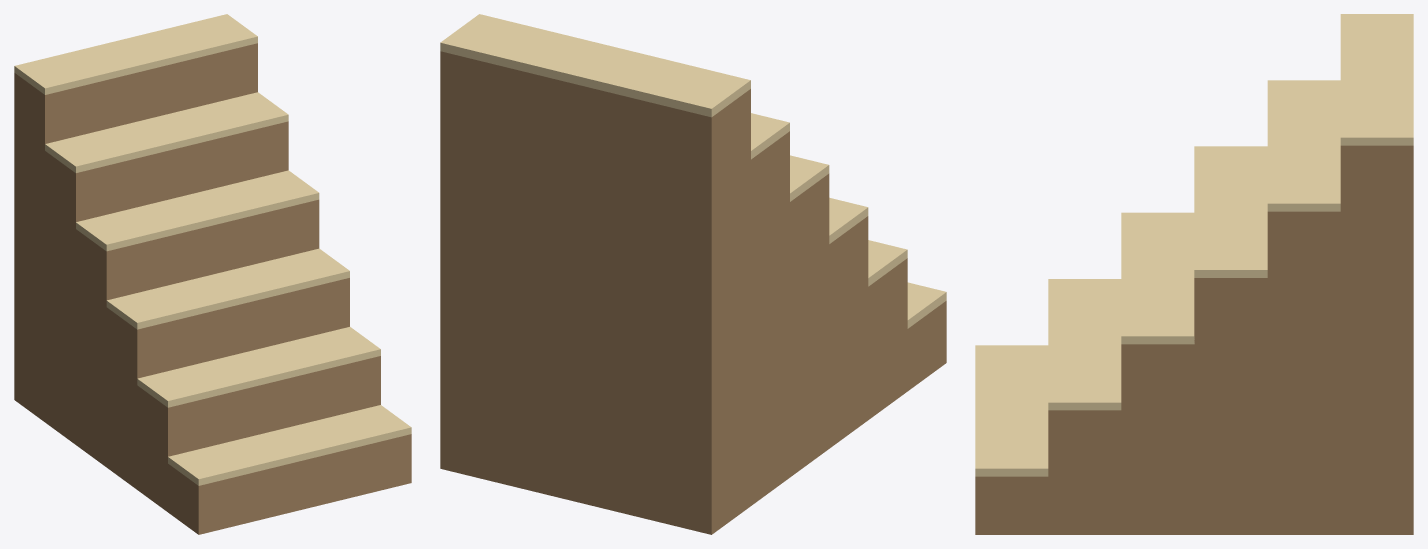
Rendered from interior_stairs.glb.
The picture shows the model from 3 angles, left to right: view 1: azimuth 30°, elevation 25°; view 2: azimuth 150°, elevation 25°; view 3: azimuth 270°, elevation 25°; orthographic projection. The views are drawn at different scales.
Parts seen in each view (by area): view 1: step_5, step_4, step_3, step_2, step_1, step_0, tread_1, tread_3, tread_5, tread_4, tread_0, tread_2; view 2: step_5, step_4, tread_5, step_3, step_2, step_1, step_0, tread_0, tread_1, tread_2, tread_3, tread_4; view 3: step_5, step_4, step_3, step_2, tread_2, tread_0, tread_3, tread_4, tread_5, tread_1, step_1, step_0.
Part boxes in pixels (bbox=[...]): step_5: bbox=[14, 43, 257, 421]; step_4: bbox=[45, 121, 288, 444]; step_3: bbox=[76, 199, 319, 467]; step_2: bbox=[106, 278, 349, 489]; step_1: bbox=[137, 356, 380, 511]; step_0: bbox=[168, 434, 411, 534]; tread_1: bbox=[137, 327, 380, 407]; tread_3: bbox=[76, 170, 319, 251]; tread_5: bbox=[14, 14, 257, 94]; tread_4: bbox=[45, 92, 288, 172]; tread_0: bbox=[168, 405, 411, 485]; tread_2: bbox=[106, 248, 349, 329]; step_5: bbox=[440, 51, 750, 534]; step_4: bbox=[751, 131, 789, 505]; tread_5: bbox=[440, 14, 750, 117]; step_3: bbox=[790, 173, 829, 477]; step_2: bbox=[829, 216, 868, 448]; step_1: bbox=[868, 258, 907, 419]; step_0: bbox=[907, 301, 946, 390]; tread_0: bbox=[907, 282, 946, 328]; tread_1: bbox=[868, 240, 907, 286]; tread_2: bbox=[829, 197, 868, 243]; tread_3: bbox=[790, 155, 829, 201]; tread_4: bbox=[751, 113, 789, 159]; step_5: bbox=[1340, 145, 1413, 534]; step_4: bbox=[1267, 211, 1340, 534]; step_3: bbox=[1194, 278, 1267, 534]; step_2: bbox=[1121, 344, 1194, 534]; tread_2: bbox=[1121, 212, 1194, 344]; tread_0: bbox=[975, 345, 1048, 476]; tread_3: bbox=[1194, 146, 1267, 277]; tread_4: bbox=[1267, 80, 1340, 211]; tread_5: bbox=[1340, 14, 1413, 145]; tread_1: bbox=[1048, 279, 1121, 410]; step_1: bbox=[1048, 410, 1121, 534]; step_0: bbox=[975, 476, 1048, 534].
Size of the model in its own units: 1 by 1.5 by 1.5.
